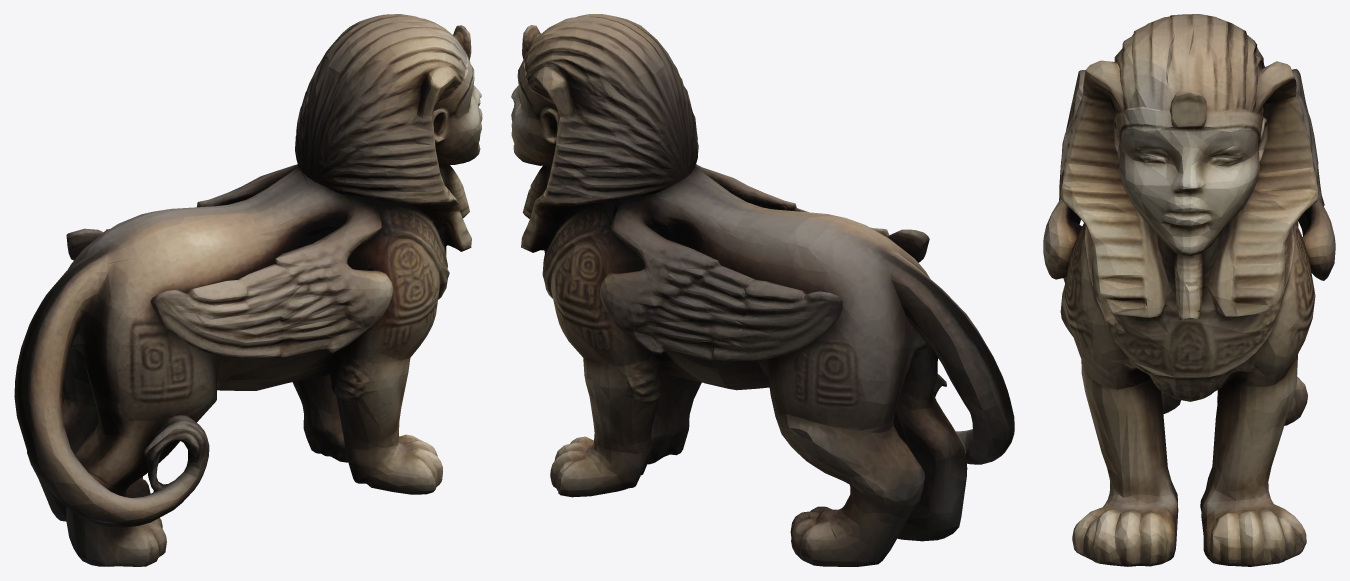
The model's file is dustSphinxCub.glb.
3 views of the same model, side by side, from view 1: azimuth 30°, elevation 25°; view 2: azimuth 150°, elevation 25°; view 3: azimuth 270°, elevation 25° (orthographic). The views are drawn at different scales.
Parts seen in each view (by area): view 1: world; view 2: world; view 3: world.
Part boxes in pixels (box(x1,y1,x2,y2)): world: box(14, 14, 482, 566); world: box(511, 14, 1014, 566); world: box(1043, 14, 1335, 566).
Bounding box in the file's own units: 0.9933 × 0.8946 × 0.4345.
1 material, 1 textured.
